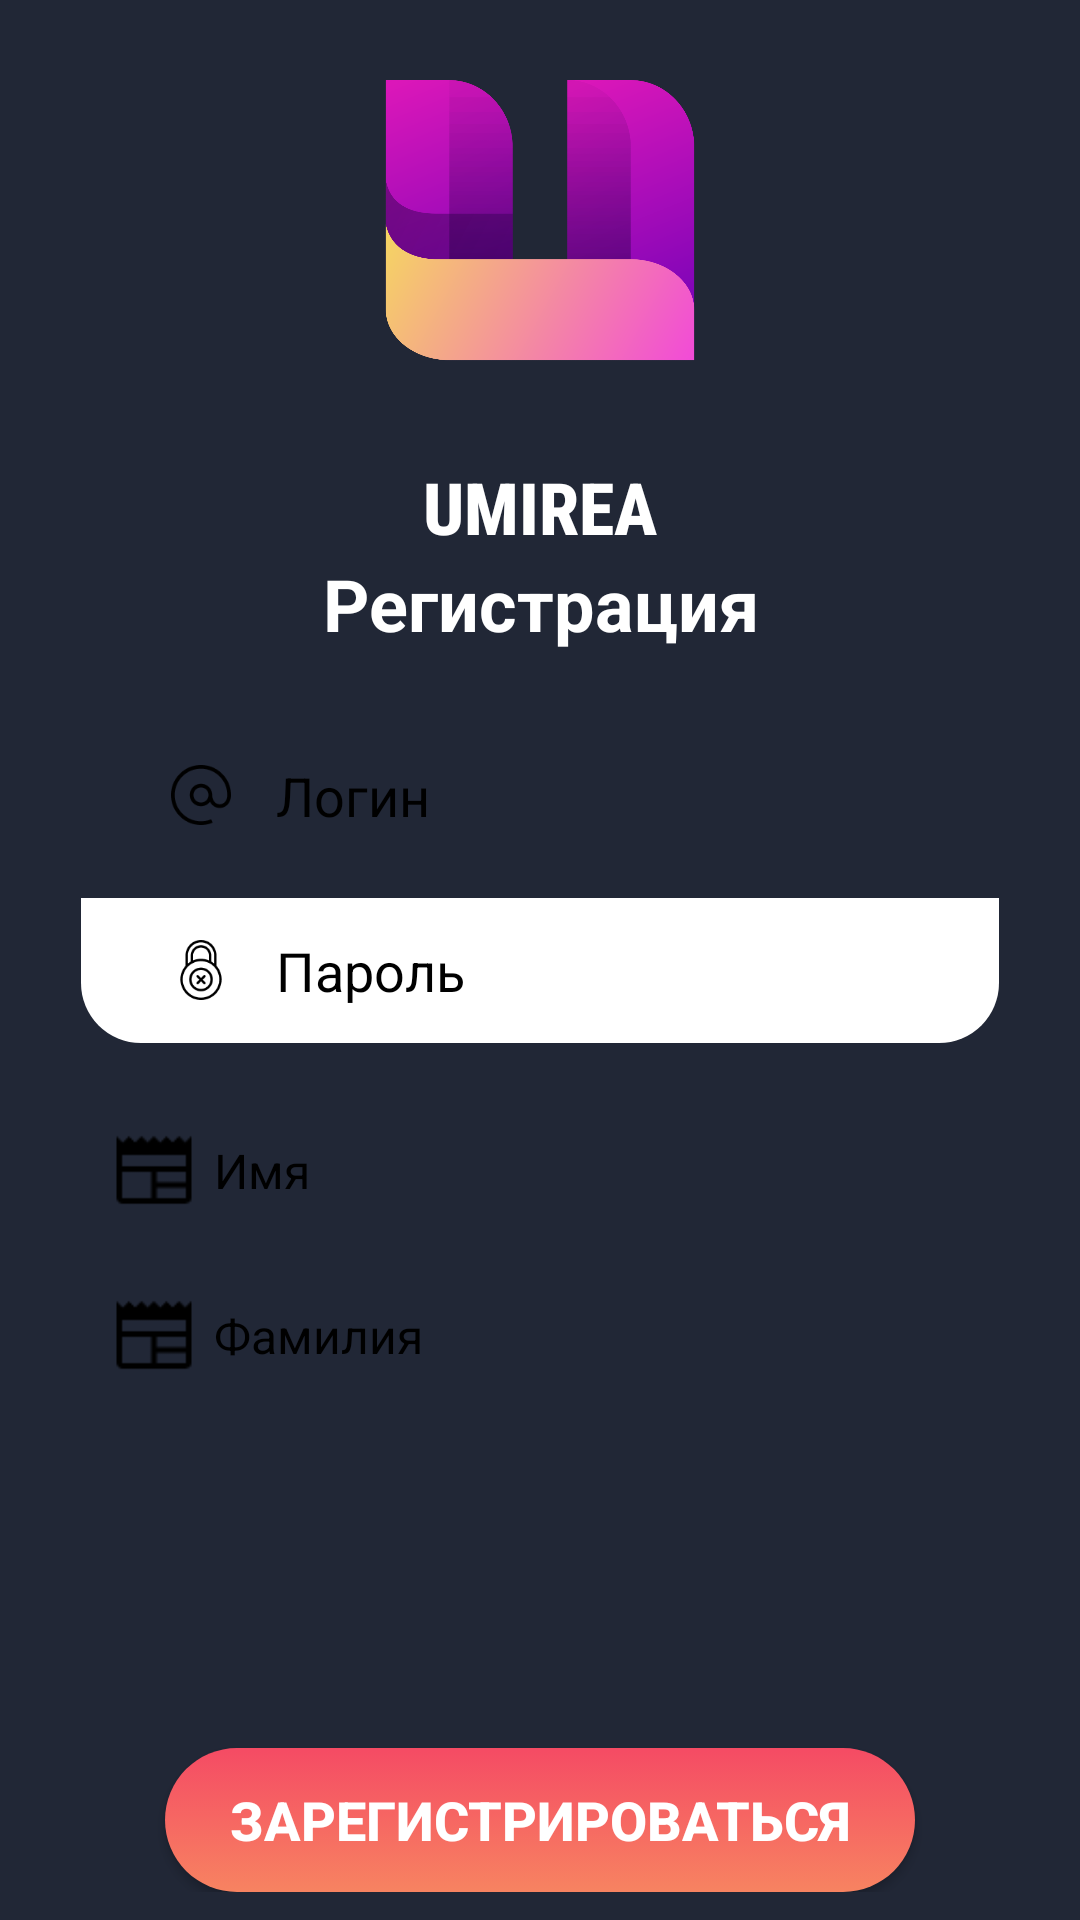

Point at icon controls on the screen. Image size 1080px×1920px, points as (x=x, y=y).
email: (x=201, y=795)
news: (x=154, y=1170), (x=154, y=1335)
password: (x=201, y=970)
